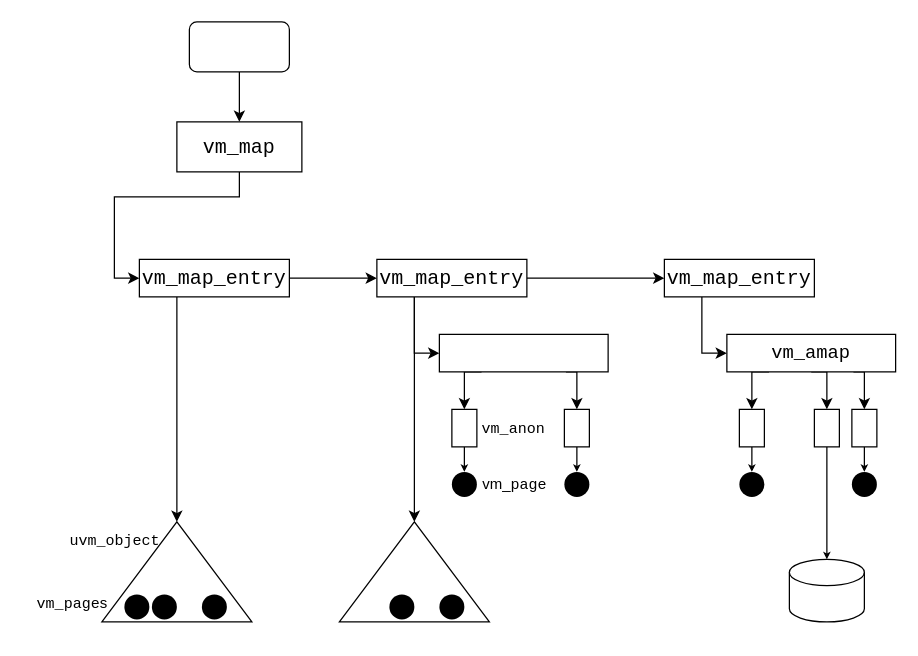
Image size: 918x656. Some labels were removed from this diagram. Each missing label, with the centre of its shape:
"Process" belongs at point (238, 46).
"swap" belongs at point (826, 590).
"vm_amap" belongs at point (523, 352).
